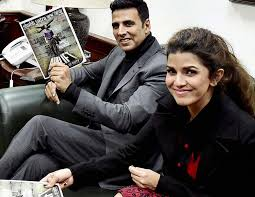Caution: (44, 1, 255, 197)
